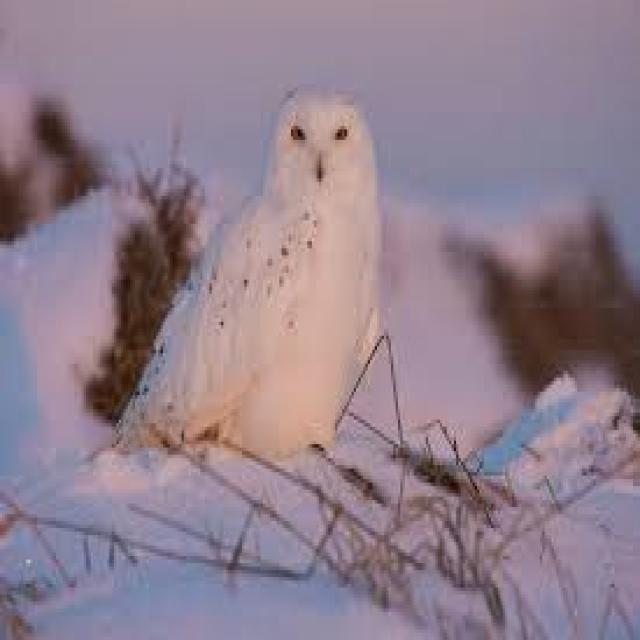snowy owl: (82, 71, 460, 525)
